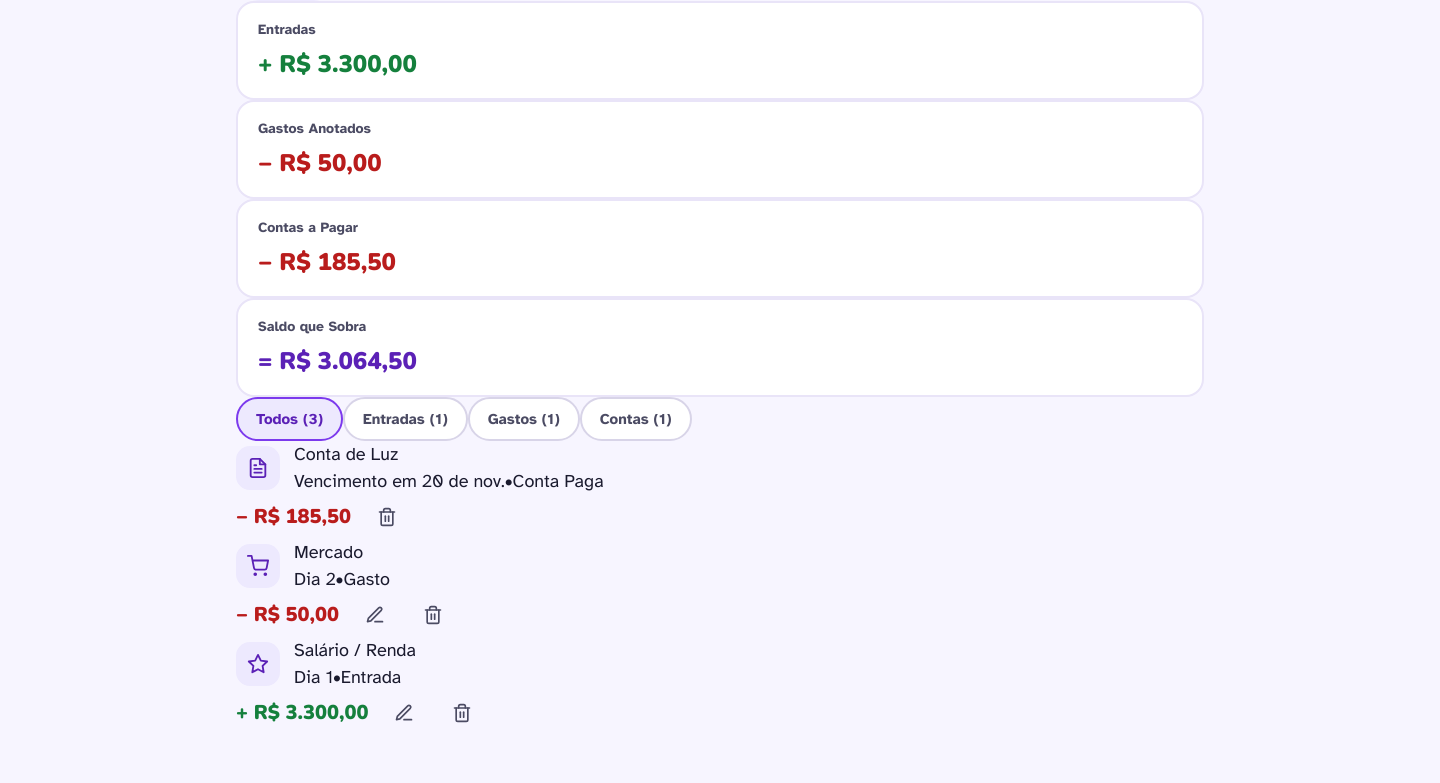
Scenario: Página Extrato de Movimentações › não salva a edição com valor inválido
(page scrolled)
Click the button named "alterar gasto de mercado" at coordinates (375, 614), box top-left (353, 592), bottom-right (397, 636)
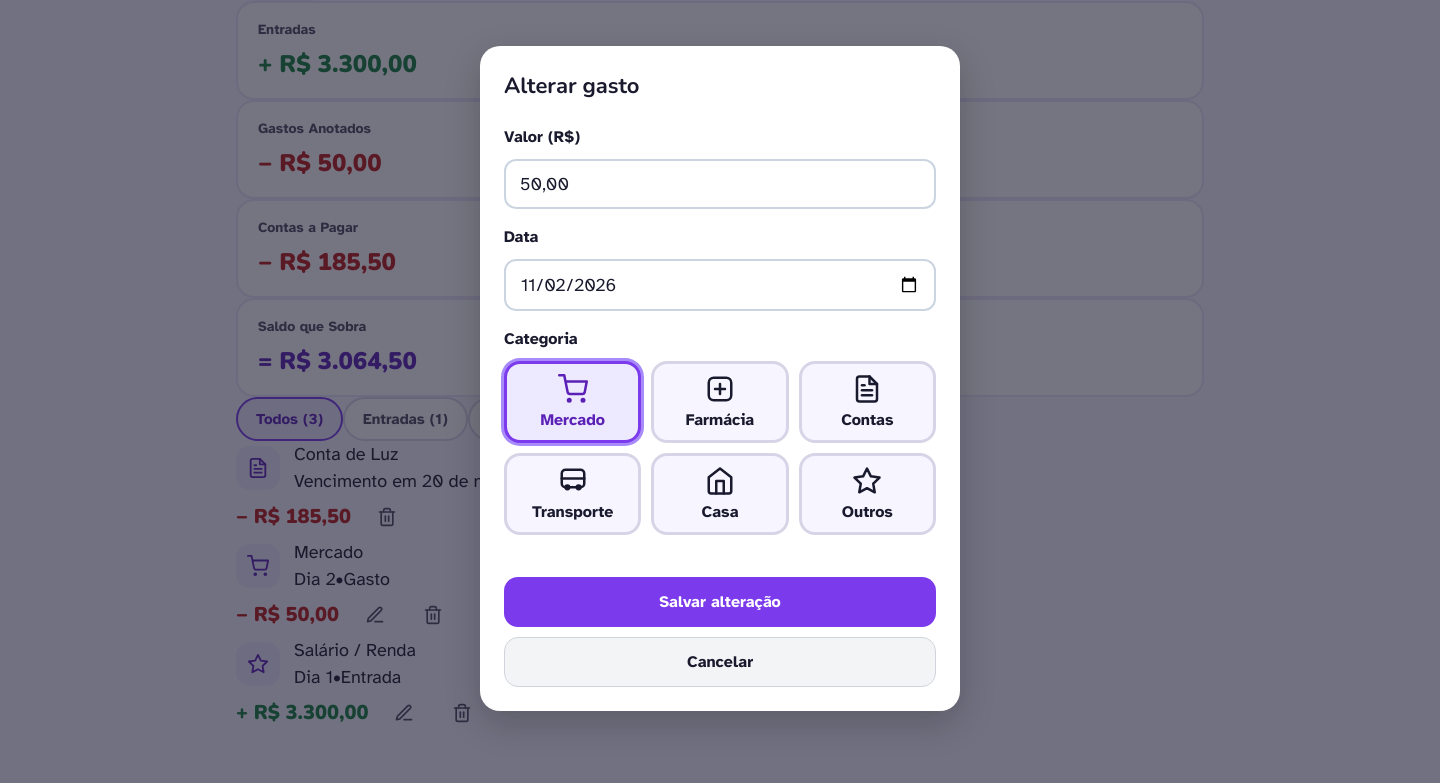
Replace the text in the field labelled "Valor (R$)" with "0" at coordinates (720, 184), box top-left (504, 158), bottom-right (936, 208)
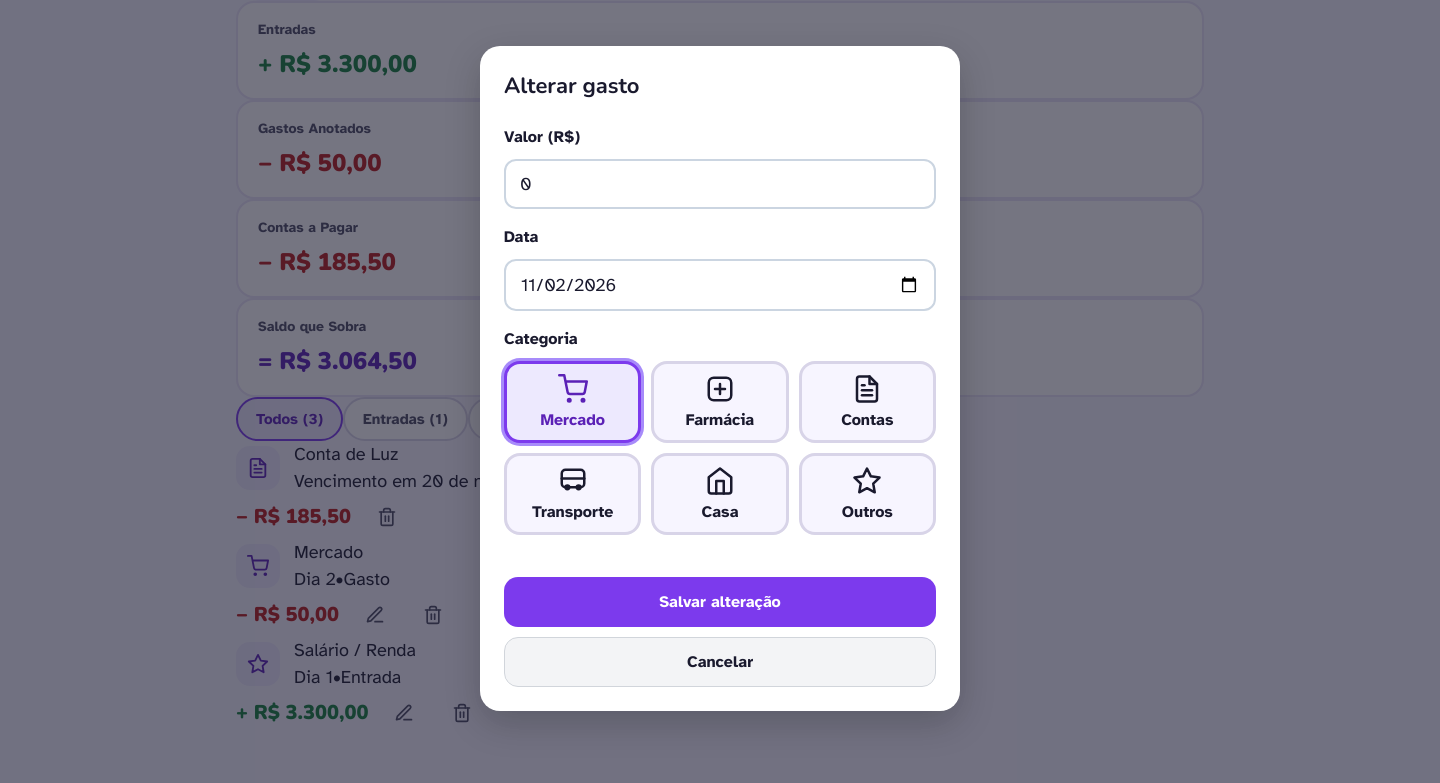
Click the button "Salvar alteração" at coordinates (720, 602), box top-left (504, 576), bottom-right (936, 626)
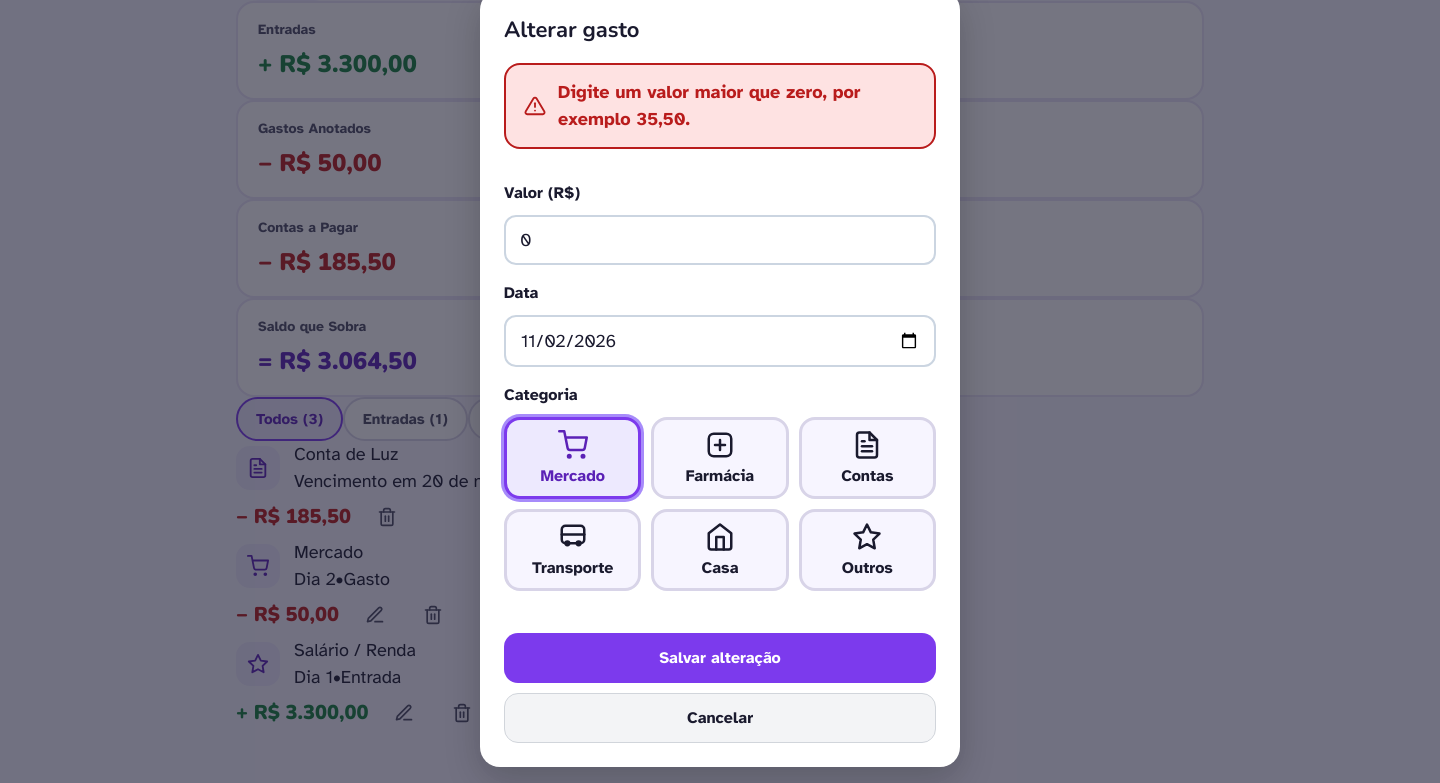
Check: the text "Digite um valor maior que zero, por exemplo 35,50." is shown, box top-left (558, 80), bottom-right (860, 130)
